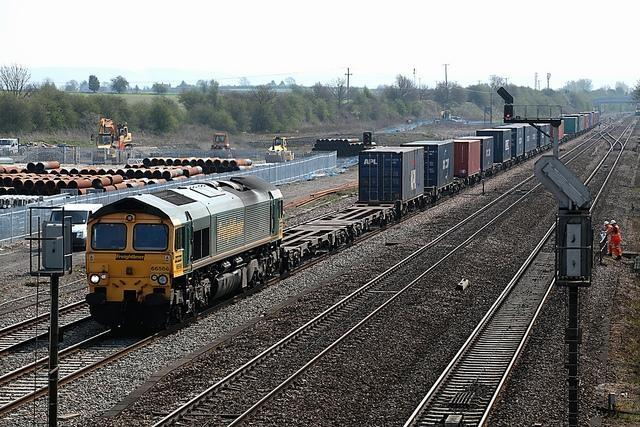car: (50, 204, 105, 248)
truck: (1, 136, 27, 156)
